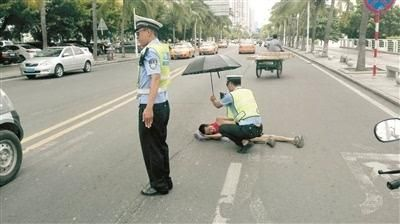fall: (189, 111, 303, 155)
